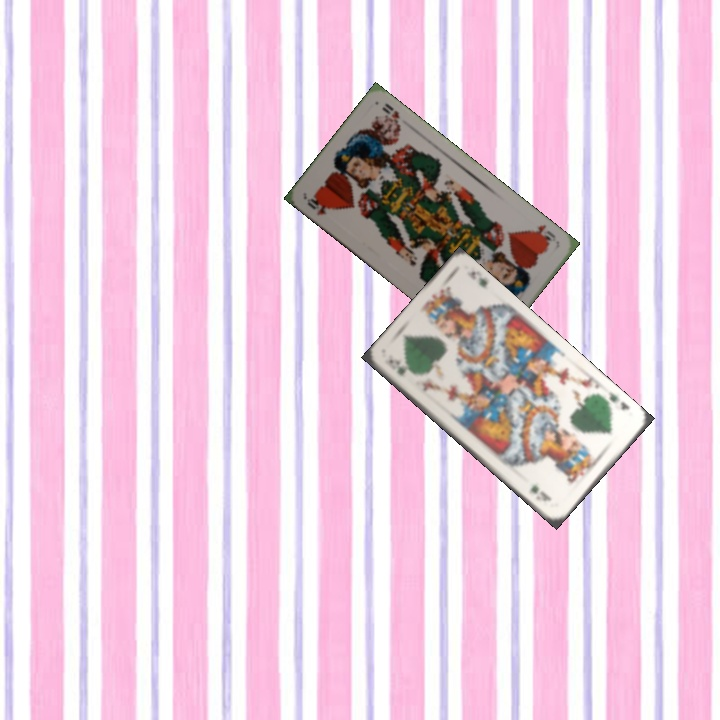GK: (604, 387, 632, 413), (385, 355, 408, 379)
HO: (525, 220, 558, 247), (302, 192, 332, 218)
